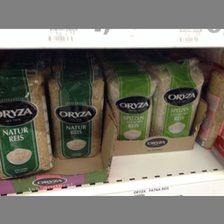rice: (1, 69, 53, 182), (47, 69, 105, 158), (150, 67, 204, 137), (106, 72, 156, 141)
